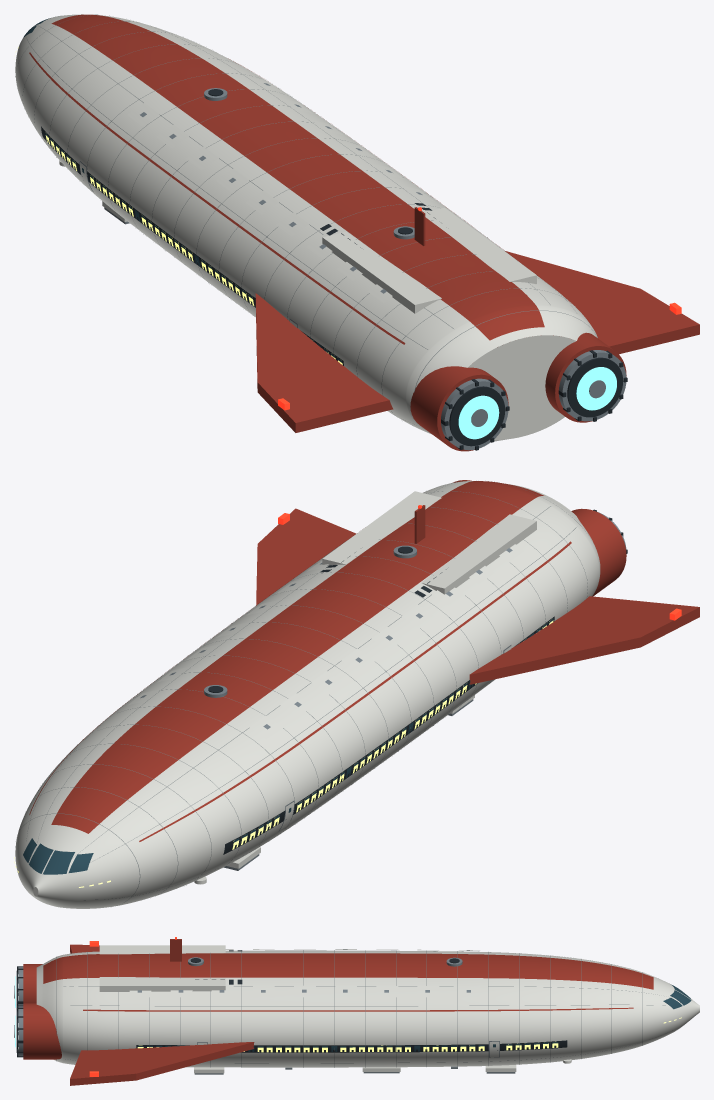
Rendered from commuter.glb.
The picture shows the model from 3 angles, top to bottom: view 1: azimuth 30°, elevation 25°; view 2: azimuth 150°, elevation 25°; view 3: azimuth 270°, elevation 25°; orthographic projection. The views are drawn at different scales.
Parts seen in each view (by area): view 1: Continuous pressure hull, Swept red engine shoulder.001, Swept red engine shoulder, Pressure hull end closure, Aft service fairing.001, Red drive nacelle, Aft service fairing, Red drive nacelle.001, Recessed passenger deck belt.001, Dark exhaust well, Dark exhaust well.001, Sweeping red cabin shoulder stripe.001 (+4 smaller); view 2: Continuous pressure hull, Swept red engine shoulder.001, Swept red engine shoulder, Aft service fairing.001, Aft service fairing, Red drive nacelle, Recessed passenger deck belt.001, Sweeping red cabin shoulder stripe.001; view 3: Continuous pressure hull, Swept red engine shoulder, Red drive nacelle.001, Aft service fairing, Recessed passenger deck belt, Sweeping red cabin shoulder stripe, Aft service fairing.001, Red drive nacelle, Longitudinal panel seam, Raised access panel.006, Raised access panel.003, Raised access panel.004 (+4 smaller).
Part boxes in pixels (x1=…): Continuous pressure hull: x1=15, y1=14, x2=597, y2=441; Swept red engine shoulder.001: x1=255, y1=293, x2=393, y2=432; Swept red engine shoulder: x1=505, y1=251, x2=699, y2=354; Pressure hull end closure: x1=468, y1=335, x2=575, y2=439; Aft service fairing.001: x1=322, y1=231, x2=441, y2=313; Red drive nacelle: x1=410, y1=366, x2=508, y2=451; Aft service fairing: x1=424, y1=207, x2=536, y2=283; Red drive nacelle.001: x1=497, y1=332, x2=626, y2=422; Recessed passenger deck belt.001: x1=41, y1=126, x2=343, y2=365; Dark exhaust well: x1=449, y1=386, x2=505, y2=446; Dark exhaust well.001: x1=567, y1=357, x2=623, y2=417; Sweeping red cabin shoulder stripe.001: x1=29, y1=52, x2=405, y2=344; Continuous pressure hull: x1=15, y1=481, x2=600, y2=908; Swept red engine shoulder.001: x1=469, y1=596, x2=699, y2=684; Swept red engine shoulder: x1=256, y1=508, x2=355, y2=605; Aft service fairing.001: x1=421, y1=514, x2=536, y2=594; Aft service fairing: x1=322, y1=491, x2=441, y2=565; Red drive nacelle: x1=571, y1=508, x2=626, y2=596; Recessed passenger deck belt.001: x1=223, y1=616, x2=554, y2=854; Sweeping red cabin shoulder stripe.001: x1=139, y1=541, x2=571, y2=841; Continuous pressure hull: x1=36, y1=950, x2=699, y2=1067; Swept red engine shoulder: x1=70, y1=1042, x2=254, y2=1085; Red drive nacelle.001: x1=23, y1=1003, x2=61, y2=1059; Aft service fairing: x1=99, y1=977, x2=225, y2=991; Recessed passenger deck belt: x1=136, y1=1040, x2=567, y2=1052; Sweeping red cabin shoulder stripe: x1=83, y1=1007, x2=633, y2=1011; Aft service fairing.001: x1=99, y1=945, x2=225, y2=954; Red drive nacelle: x1=23, y1=964, x2=42, y2=1003; Longitudinal panel seam: x1=70, y1=1004, x2=665, y2=1006; Raised access panel.006: x1=376, y1=985, x2=398, y2=997; Raised access panel.003: x1=253, y1=985, x2=274, y2=997; Raised access panel.004: x1=294, y1=985, x2=315, y2=997.
Bounding box in the file's own units: 34.56 × 14.48 × 74.46.
